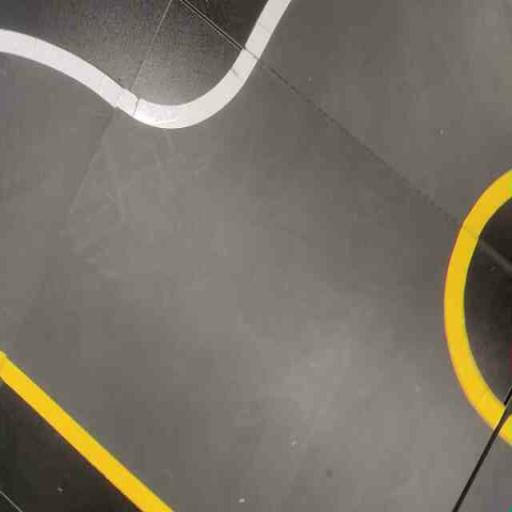right: (0, 0, 301, 512)
